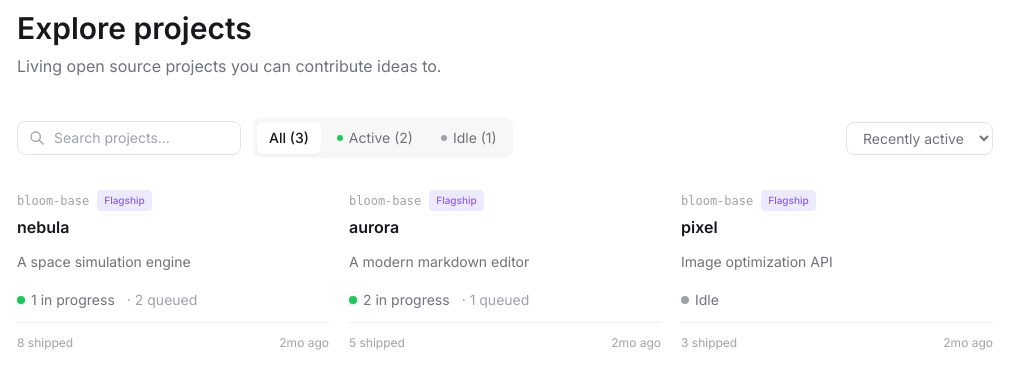
Test: ExplorePage › Search › filters projects by description
Expected: the text "aurora" is shown, [349,217,399,237]
Type "image" into the field with placeholder "Search projects..." at (129, 138), box [17,121,241,155]
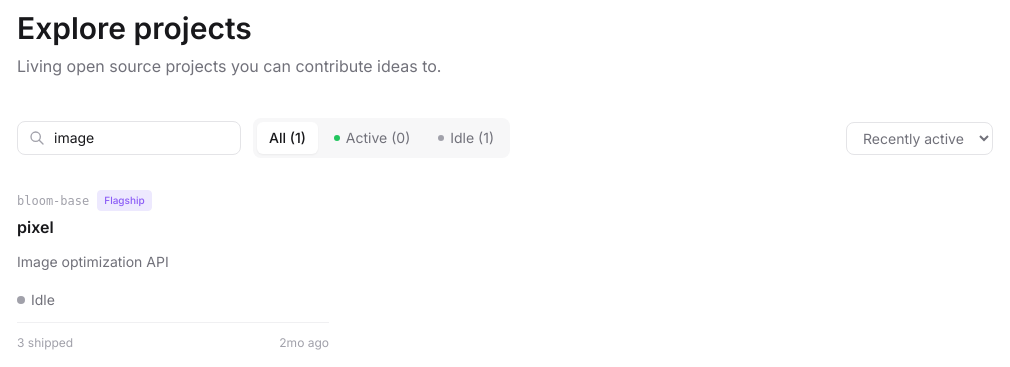
Expected: the text "pixel" is shown, [17,217,54,237]
Result: the link "aurora" is gone
Result: the link "nebula" is gone
